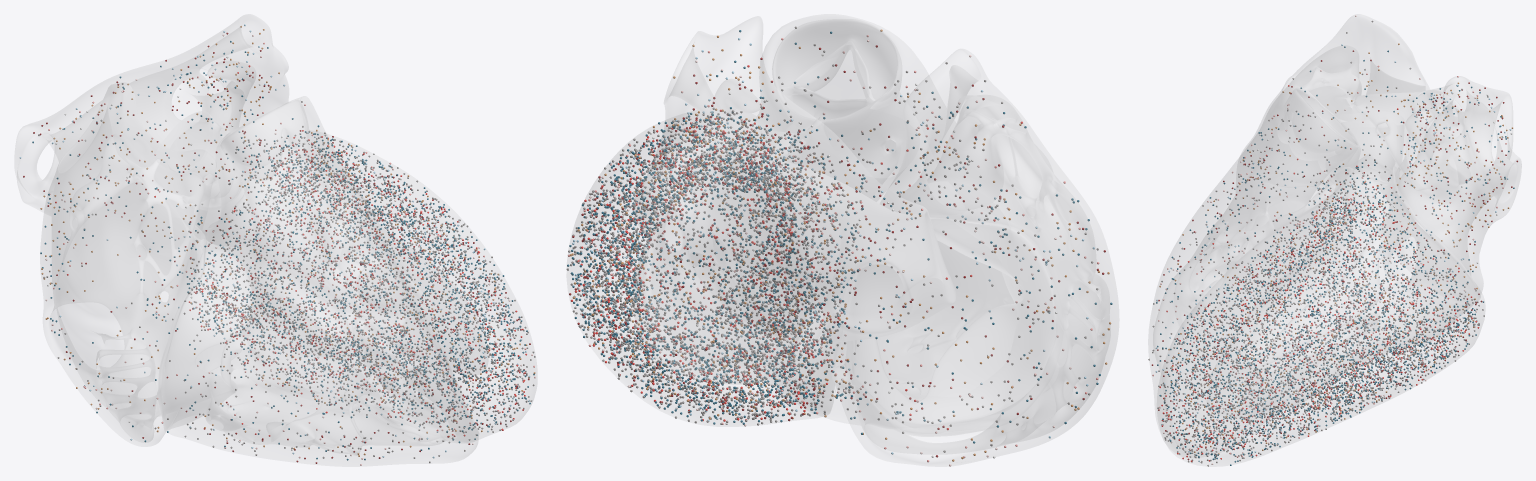
File: 3d-vh-m-heart-UBERON_0000948-all-as-azimuth-sphere-hra-pop.glb
3 views of the same model, side by side, from view 1: azimuth 30°, elevation 25°; view 2: azimuth 150°, elevation 25°; view 3: azimuth 270°, elevation 25° (orthographic). The views are drawn at different scales.
Parts seen in each view (by area): view 1: VH_M_heart_right_ventricle, VH_M_right_cardiac_atrium, VH_M_left_cardiac_atrium, VH_M_heart_left_ventricle, VH_M_tricuspid_valve, VH_M_pulmonary_valve, VH_M_aortic_valve, VH_M_papillary_muscle_of_heart_anterior, VH_M_interventricular_septum; view 2: VH_M_right_cardiac_atrium, VH_M_left_cardiac_atrium, VH_M_heart_right_ventricle, VH_M_mitral_valve, VH_M_heart_left_ventricle, VH_M_pulmonary_valve, VH_M_tricuspid_valve, VH_M_aortic_valve, VH_M_papillary_muscle_of_heart_posteromedial; view 3: VH_M_heart_left_ventricle, VH_M_heart_right_ventricle, VH_M_left_cardiac_atrium, VH_M_right_cardiac_atrium, VH_M_pulmonary_valve, VH_M_papillary_muscle_of_heart_anterolateral, VH_M_mitral_valve, VH_M_interventricular_septum, VH_M_aortic_valve, VH_M_papillary_muscle_of_heart_posteromedial, VH_M_tricuspid_valve.
Boxes of the visible parts, x1=… form: VH_M_heart_right_ventricle: x1=162, y1=96, x2=478, y2=466; VH_M_right_cardiac_atrium: x1=40, y1=83, x2=215, y2=446; VH_M_left_cardiac_atrium: x1=15, y1=14, x2=288, y2=215; VH_M_heart_left_ventricle: x1=196, y1=131, x2=536, y2=442; VH_M_tricuspid_valve: x1=157, y1=242, x2=251, y2=431; VH_M_pulmonary_valve: x1=221, y1=100, x2=308, y2=180; VH_M_aortic_valve: x1=167, y1=116, x2=240, y2=209; VH_M_papillary_muscle_of_heart_anterior: x1=284, y1=356, x2=366, y2=398; VH_M_interventricular_septum: x1=209, y1=194, x2=478, y2=443; VH_M_right_cardiac_atrium: x1=827, y1=49, x2=1118, y2=466; VH_M_left_cardiac_atrium: x1=632, y1=16, x2=955, y2=383; VH_M_heart_right_ventricle: x1=756, y1=14, x2=1023, y2=436; VH_M_mitral_valve: x1=643, y1=185, x2=822, y2=383; VH_M_heart_left_ventricle: x1=567, y1=110, x2=833, y2=426; VH_M_pulmonary_valve: x1=772, y1=19, x2=901, y2=119; VH_M_tricuspid_valve: x1=853, y1=219, x2=1016, y2=432; VH_M_aortic_valve: x1=788, y1=113, x2=902, y2=201; VH_M_papillary_muscle_of_heart_posteromedial: x1=695, y1=262, x2=735, y2=312; VH_M_heart_left_ventricle: x1=1157, y1=153, x2=1484, y2=466; VH_M_heart_right_ventricle: x1=1148, y1=86, x2=1360, y2=457; VH_M_left_cardiac_atrium: x1=1355, y1=76, x2=1521, y2=292; VH_M_right_cardiac_atrium: x1=1236, y1=14, x2=1437, y2=191; VH_M_pulmonary_valve: x1=1278, y1=88, x2=1358, y2=174; VH_M_papillary_muscle_of_heart_anterolateral: x1=1255, y1=234, x2=1383, y2=366; VH_M_mitral_valve: x1=1381, y1=166, x2=1480, y2=303; VH_M_interventricular_septum: x1=1174, y1=167, x2=1388, y2=388; VH_M_aortic_valve: x1=1337, y1=119, x2=1403, y2=187; VH_M_papillary_muscle_of_heart_posteromedial: x1=1260, y1=313, x2=1378, y2=374; VH_M_tricuspid_valve: x1=1252, y1=190, x2=1317, y2=229.
Size of the model in its own units: 0.1244 by 0.1054 by 0.1052.
